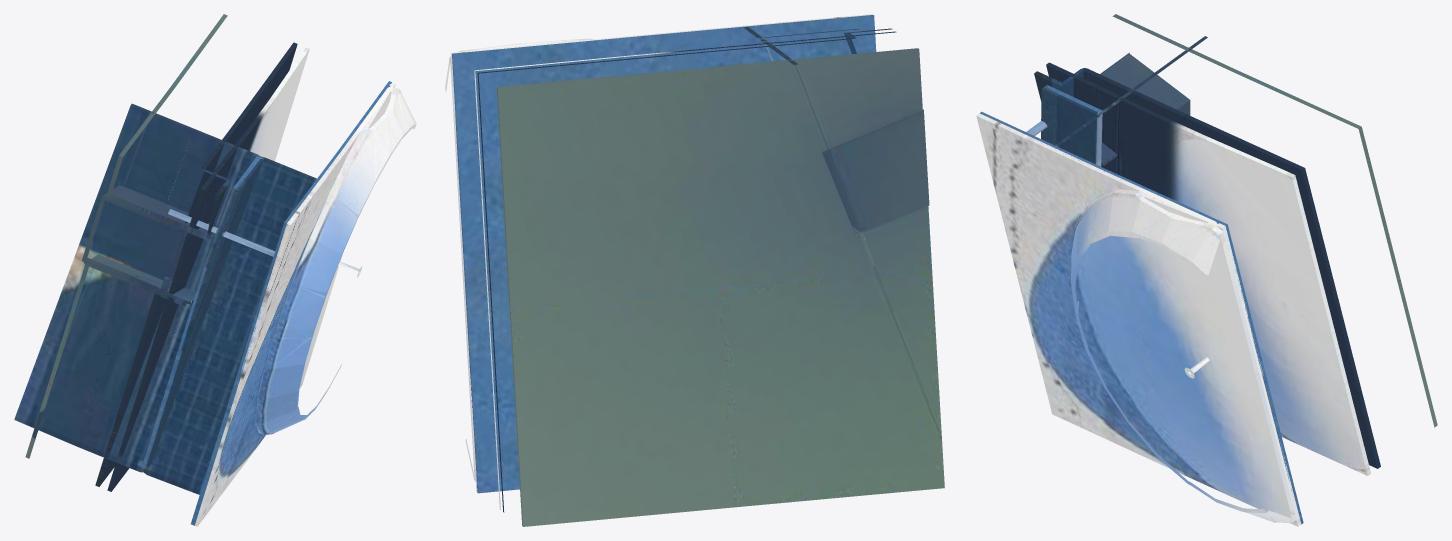
File: congresso_tile_193.glb
3 views of the same model, side by side, from view 1: azimuth 30°, elevation 25°; view 2: azimuth 150°, elevation 25°; view 3: azimuth 270°, elevation 25° (orthographic). The views are drawn at different scales.
Bounding box in the file's own units: 49.22 × 42.85 × 46.68.
2 materials, 2 textured.
